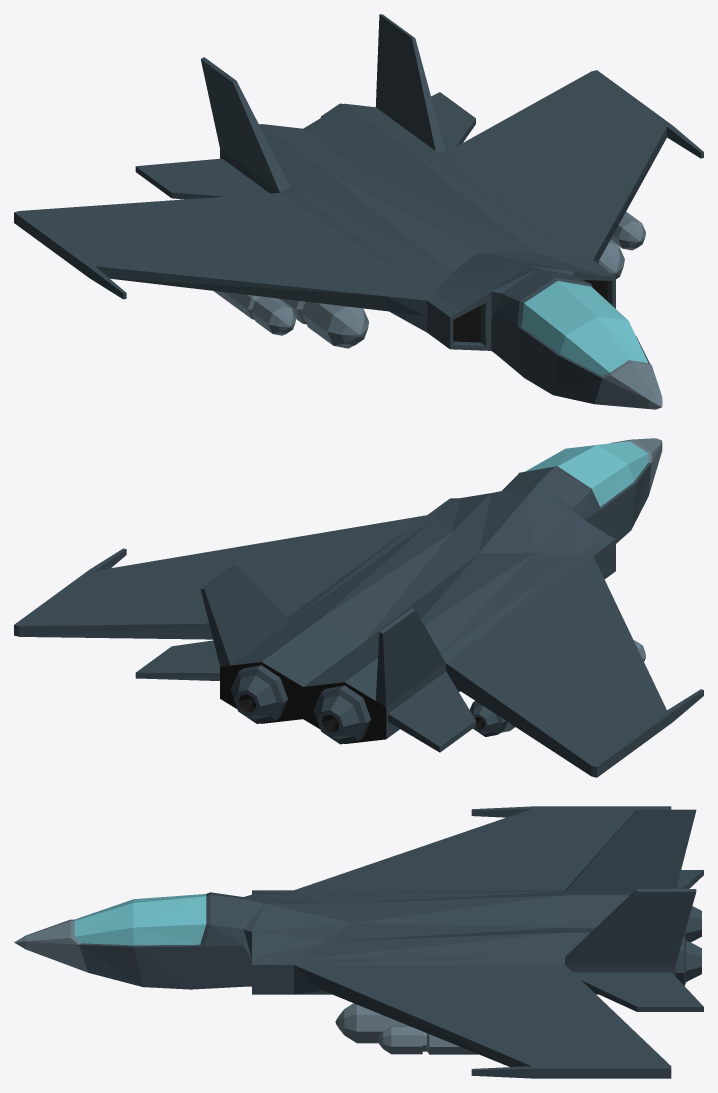
The model's file is jet.glb.
The picture shows the model from 3 angles, top to bottom: view 1: azimuth 30°, elevation 25°; view 2: azimuth 150°, elevation 25°; view 3: azimuth 270°, elevation 25°; orthographic projection. The views are drawn at different scales.
Visible parts, largest first — view 1: fuselage, wing-left, wing-right, tail; view 2: fuselage, wing-left, wing-right, tail; view 3: fuselage, wing-right, wing-left, tail.
Boxes of the visible parts, x1,y1,x2,y2 form: fuselage: (280, 147, 662, 409); wing-left: (14, 57, 427, 348); wing-right: (380, 14, 703, 278); tail: (201, 14, 445, 193); fuselage: (287, 438, 662, 662); wing-left: (380, 556, 703, 777); wing-right: (14, 515, 426, 680); tail: (200, 565, 445, 744); fuselage: (14, 890, 564, 994); wing-right: (294, 889, 703, 1078); wing-left: (294, 806, 703, 890); tail: (565, 810, 701, 994).
Bounding box in the file's own units: 11.69 × 2.82 × 13.
